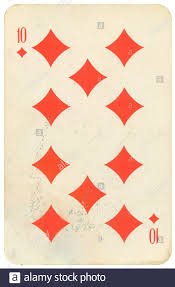ten of diamonds: (5, 5, 172, 264)
